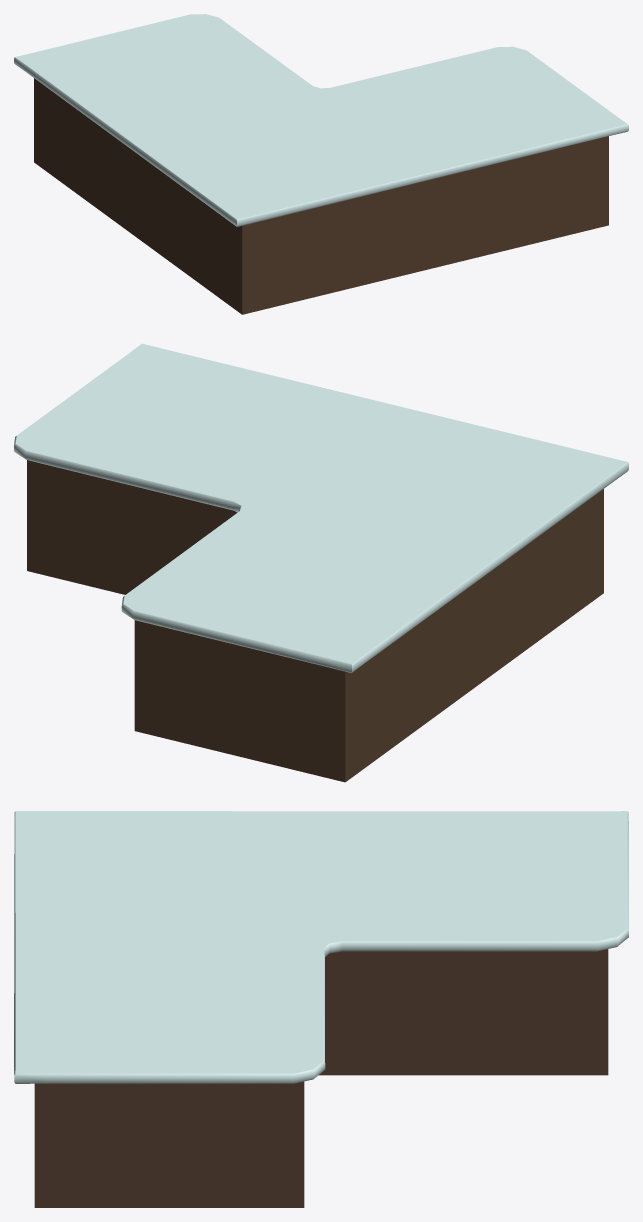
The model's file is Counter corner 2.fbx.
The picture shows the model from 3 angles, top to bottom: view 1: azimuth 30°, elevation 25°; view 2: azimuth 150°, elevation 25°; view 3: azimuth 270°, elevation 25°; orthographic projection. The views are drawn at different scales.
Parts seen in each view (by area): view 1: Cube.005, Cube.004; view 2: Cube.005, Cube.004; view 3: Cube.005, Cube.004.
Part boxes in pixels (left/top/right/bottom): Cube.005: left=14, top=14, right=628, bottom=226; Cube.004: left=34, top=78, right=608, bottom=314; Cube.005: left=14, top=343, right=628, bottom=673; Cube.004: left=27, top=460, right=603, bottom=782; Cube.005: left=14, top=811, right=628, bottom=1083; Cube.004: left=34, top=949, right=608, bottom=1207.
Size of the model in its own units: 463 by 116 by 456.
